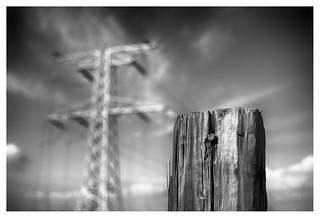power_tower: (46, 36, 167, 210)
